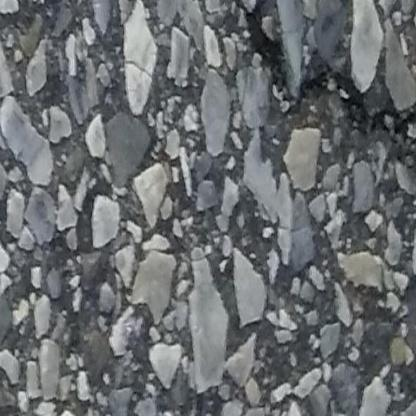Cracks: (221, 0, 416, 174)
